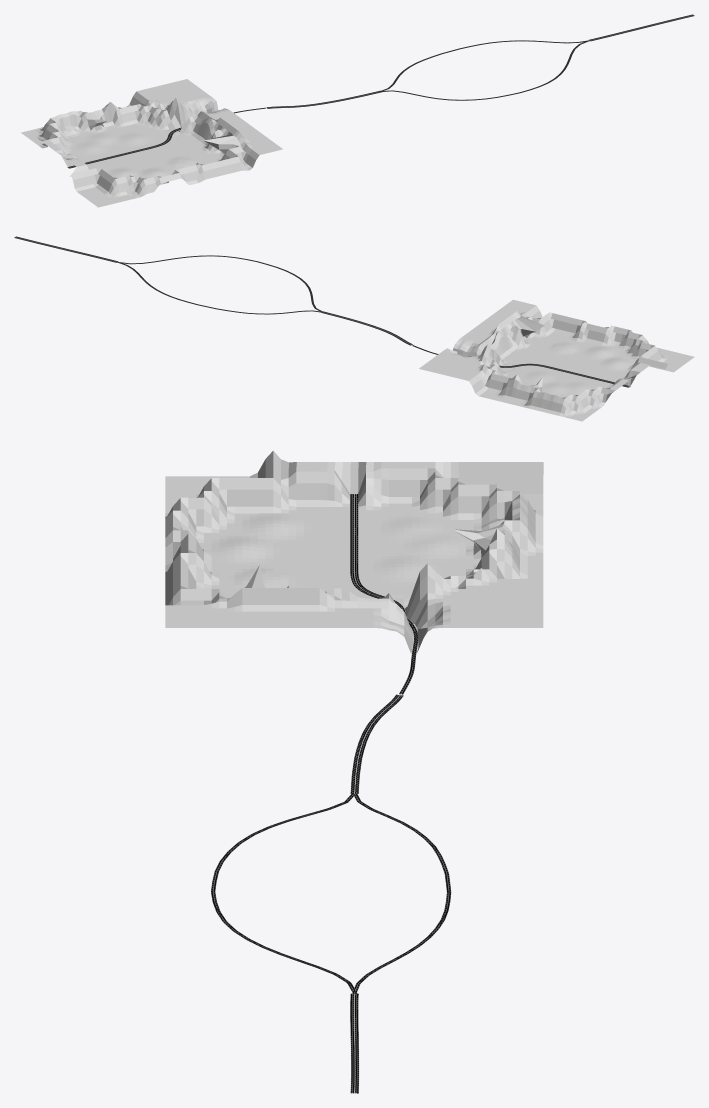
File: first-test.glb
The picture shows the model from 3 angles, top to bottom: view 1: azimuth 30°, elevation 25°; view 2: azimuth 150°, elevation 25°; view 3: azimuth 270°, elevation 25°; orthographic projection. The views are drawn at different scales.
Visible parts, largest first — view 1: Ground1, road_10x10, road_10x10-B, road_18x10-B; view 2: Ground1, road_10x10, road_10x10-B, road_18x10-B; view 3: Ground1, road_10x10, road_10x10-B, road_18x10-B.
Boxes of the visible parts, x1,y1,x2,y2 form: Ground1: [21, 79, 282, 207]; road_10x10: [381, 40, 589, 100]; road_10x10-B: [379, 40, 589, 91]; road_18x10-B: [68, 127, 181, 168]; Ground1: [419, 299, 694, 421]; road_10x10: [117, 255, 323, 312]; road_10x10-B: [118, 261, 324, 314]; road_18x10-B: [499, 363, 629, 387]; Ground1: [165, 450, 543, 653]; road_10x10: [210, 794, 357, 993]; road_10x10-B: [352, 792, 451, 993]; road_18x10-B: [350, 494, 405, 612].
Size of the model in its own units: 3093 by 123 by 801.
Materials: 1 (1 with a texture image).
